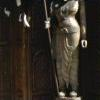Statue: (36, 4, 90, 98)
